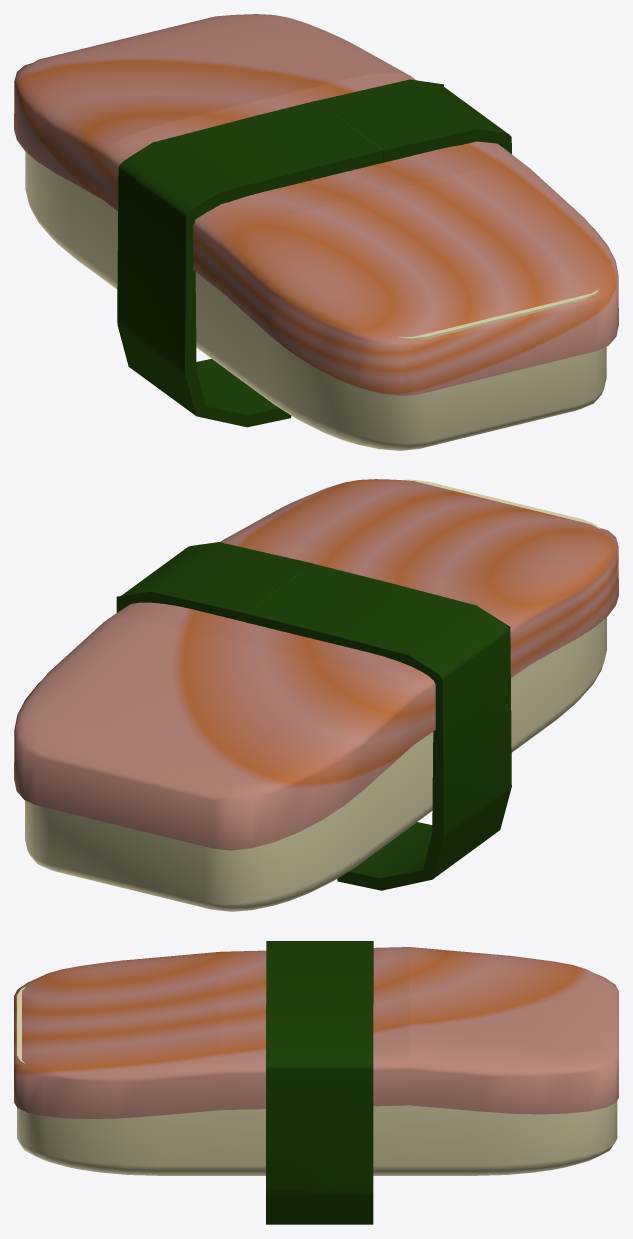
The model's file is SushiTwo.fbx.
The picture shows the model from 3 angles, top to bottom: view 1: azimuth 30°, elevation 25°; view 2: azimuth 150°, elevation 25°; view 3: azimuth 270°, elevation 25°; orthographic projection. The views are drawn at different scales.
Visible parts, largest first — view 1: Cube.004, Plane.002, Cube.003; view 2: Cube.004, Plane.002, Cube.003; view 3: Cube.004, Plane.002, Cube.003.
Part boxes in pixels (x1,y1,x2,y2): Cube.004: (14, 14, 618, 395); Plane.002: (117, 79, 511, 427); Cube.003: (25, 151, 606, 450); Cube.004: (14, 479, 618, 850); Plane.002: (116, 542, 511, 890); Cube.003: (25, 479, 606, 911); Cube.004: (14, 947, 618, 1118); Plane.002: (266, 941, 373, 1224); Cube.003: (17, 987, 617, 1175).
Bounding box in the file's own units: 179 × 128 × 361.
